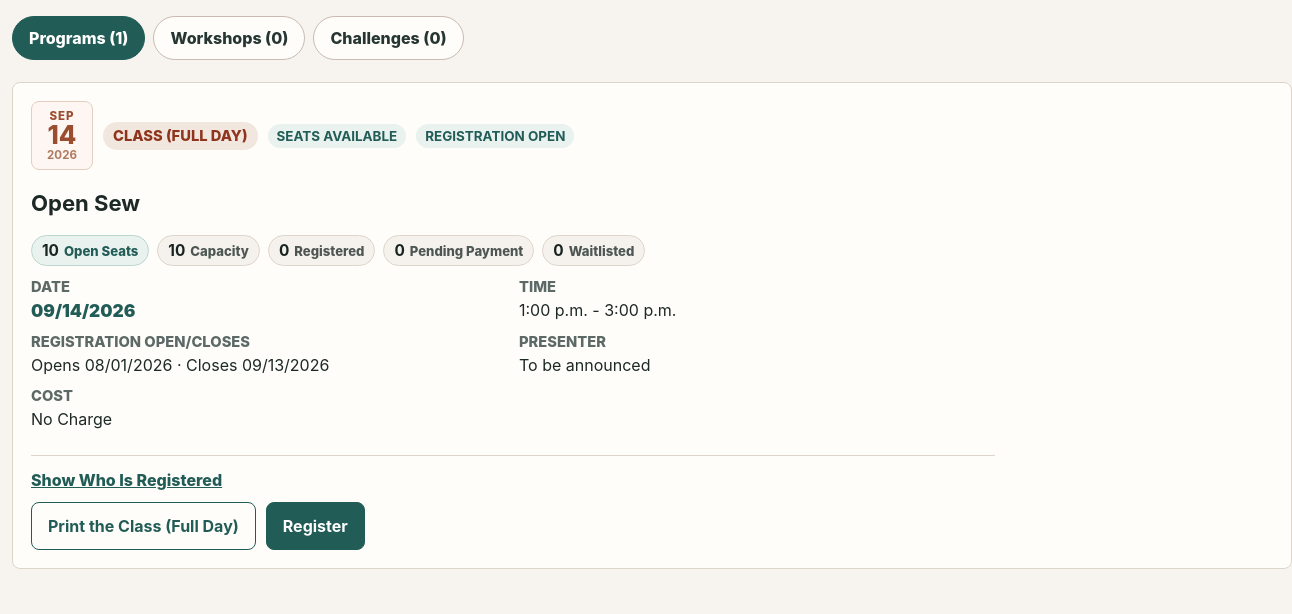
it: the registrant slideout on an event card › closes again
Step 1. Click the button "Show Who Is Registered" → (127, 480), box x1=31 y1=470 x2=222 y2=490
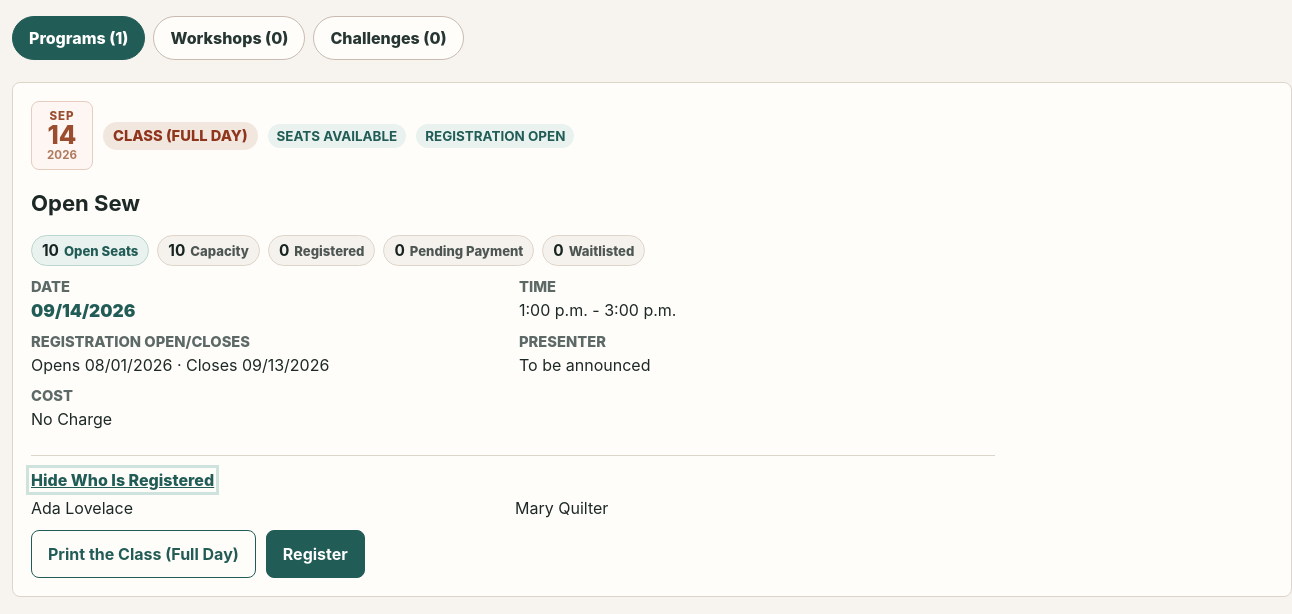
Result: the list item "Ada Lovelace" is shown at x1=31 y1=498 x2=133 y2=518
Step 2. Click the button "Hide Who Is Registered" → (123, 480), box x1=31 y1=470 x2=214 y2=490
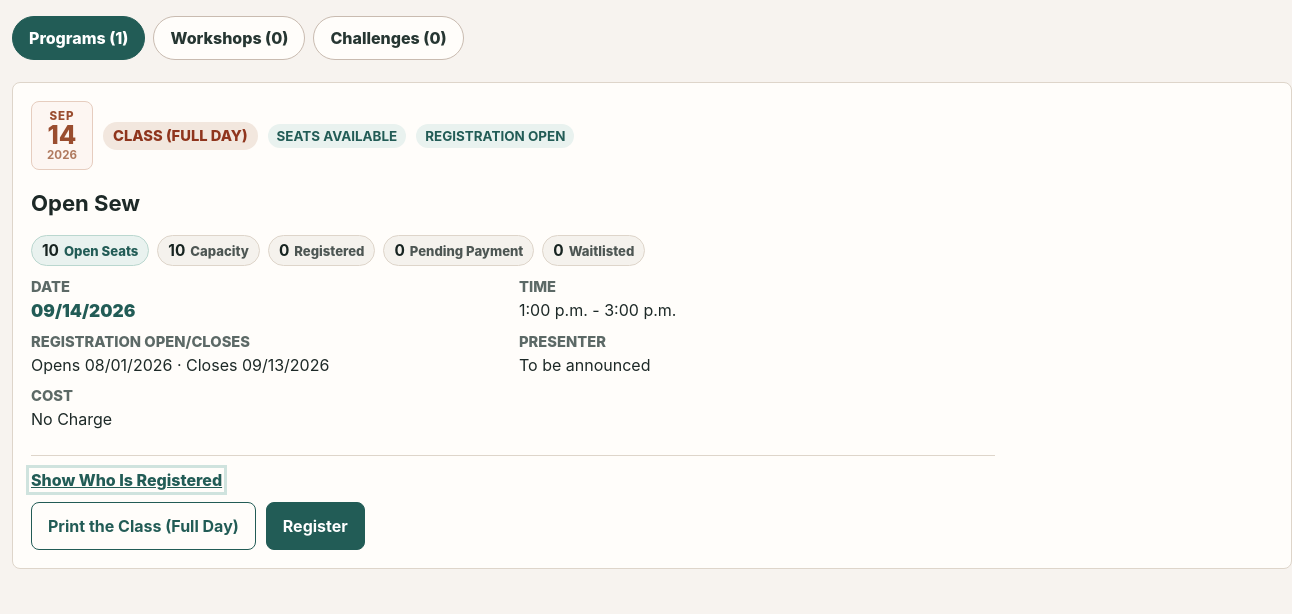
Result: the list item "Ada Lovelace" is gone
